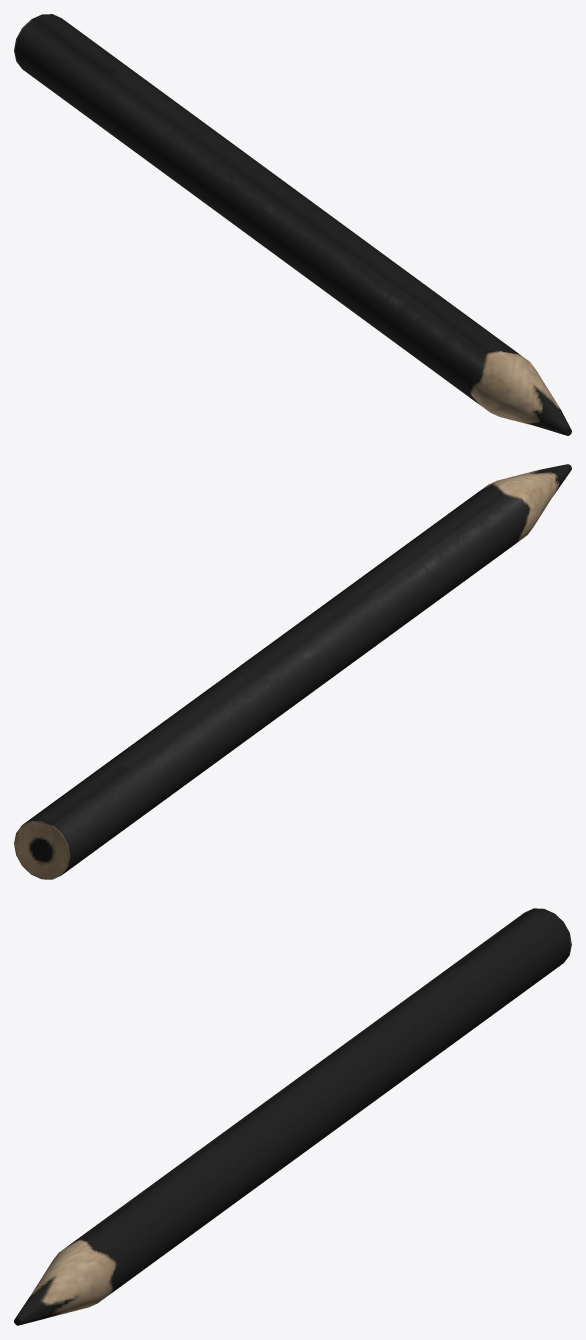
Rendered from SM_Crayon03.fbx.
3 views of the same model, one above another, from view 1: azimuth 30°, elevation 25°; view 2: azimuth 150°, elevation 25°; view 3: azimuth 330°, elevation 25° (orthographic).
Parts seen in each view (by area): view 1: SM_Crayon03_LOD0; view 2: SM_Crayon03_LOD0; view 3: SM_Crayon03_LOD0.
Boxes of the visible parts, x1,y1,x2,y2 form: SM_Crayon03_LOD0: [14, 14, 571, 435]; SM_Crayon03_LOD0: [14, 464, 571, 879]; SM_Crayon03_LOD0: [14, 908, 571, 1325].
Size of the model in its own units: 1.11 by 17.89 by 1.09.
1 material, 1 textured.
